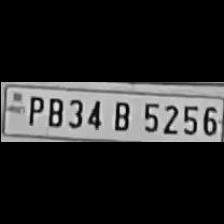2: (160, 101, 178, 135)
3: (64, 95, 84, 129)
4: (82, 96, 104, 130)
5: (136, 99, 160, 134), (178, 102, 198, 136)
6: (200, 102, 218, 136)
B: (106, 97, 134, 131), (44, 94, 64, 128)
P: (23, 93, 43, 127)
